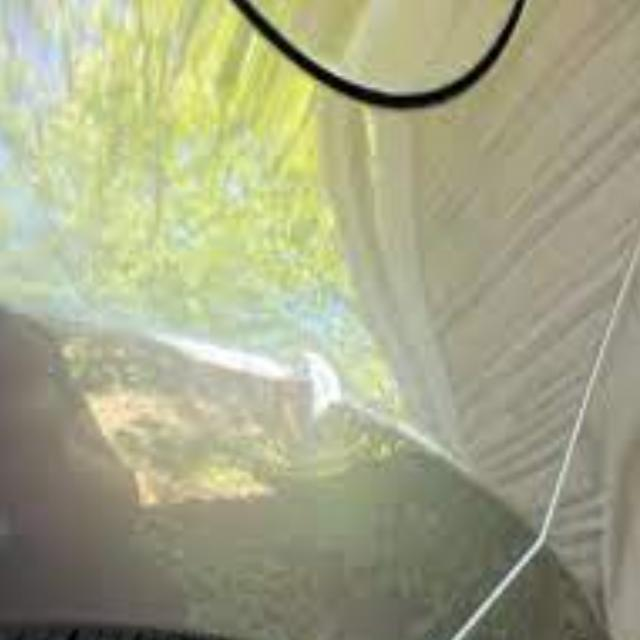dents: (259, 348, 378, 456)
